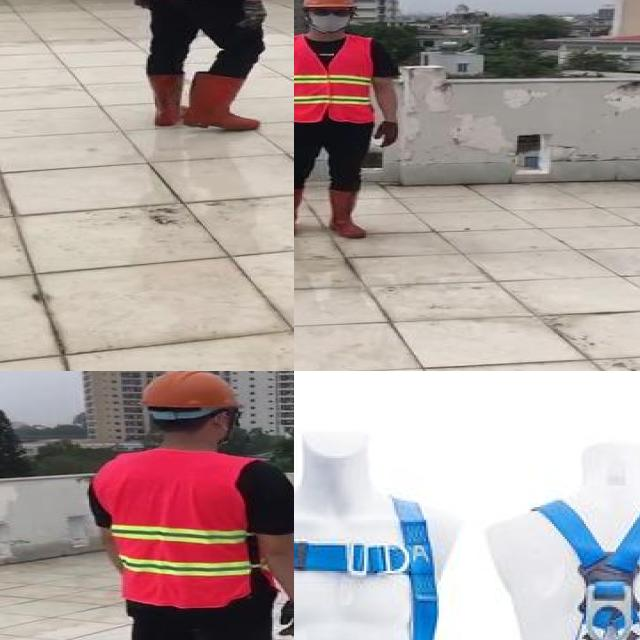Harness: (294, 477, 445, 640), (507, 489, 640, 640)
boots: (187, 73, 260, 131), (322, 188, 366, 238), (146, 71, 185, 127), (294, 188, 302, 236)
face_mask: (306, 4, 352, 32)
glasses: (306, 5, 356, 18)
hand_glove: (237, 0, 267, 29), (273, 600, 294, 639), (373, 122, 400, 147)
head_helmet: (134, 371, 244, 414), (296, 0, 360, 8)
person: (82, 371, 294, 640), (294, 0, 415, 243), (115, 0, 285, 132)
vest: (92, 451, 274, 606), (294, 34, 376, 123)
